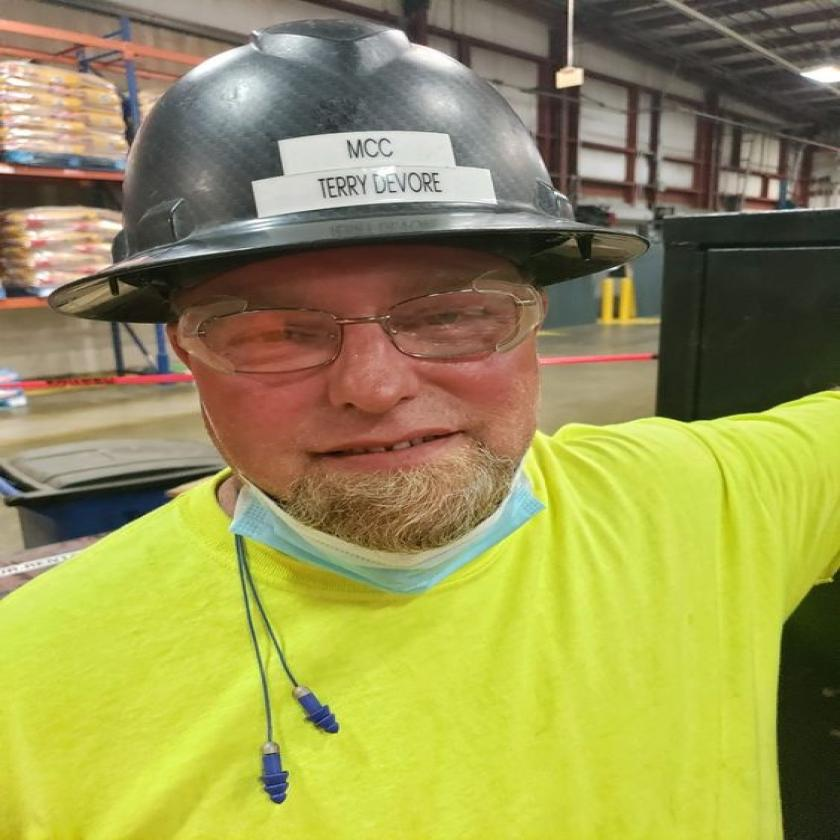Con_casco: (90, 6, 645, 523)
